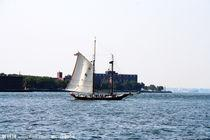fanchuan: (63, 34, 126, 106)
